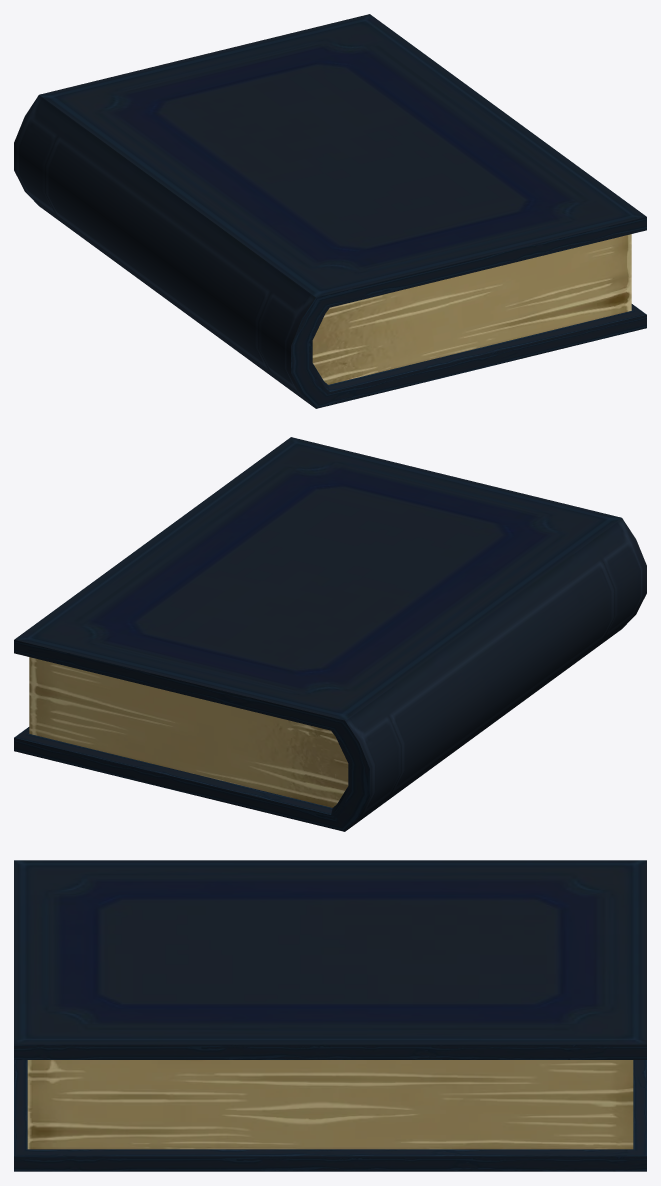
Rendered from Book_5.gltf.
3 renders of one model, top to bottom at view 1: azimuth 30°, elevation 25°; view 2: azimuth 150°, elevation 25°; view 3: azimuth 270°, elevation 25°, orthographic. The views are drawn at different scales.
Visible parts, largest first — view 1: Book_5; view 2: Book_5; view 3: Book_5.
Part boxes in pixels (x1=…): Book_5: x1=14, y1=14, x2=646, y2=408; Book_5: x1=14, y1=437, x2=646, y2=831; Book_5: x1=14, y1=860, x2=646, y2=1171.
Bounding box in the file's own units: 0.2129 × 0.0637 × 0.2871.
1 material, 1 textured.
